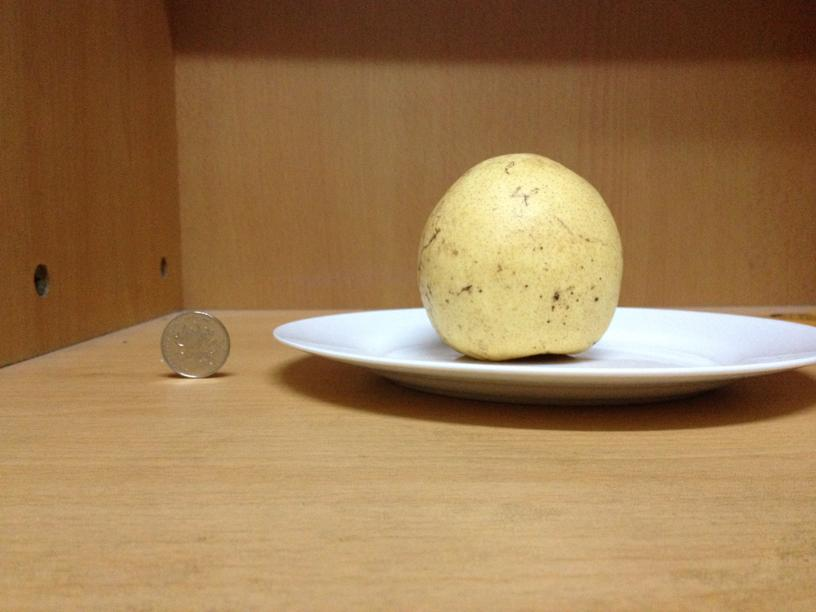coin: (158, 309, 229, 379)
pear: (419, 146, 627, 361)
